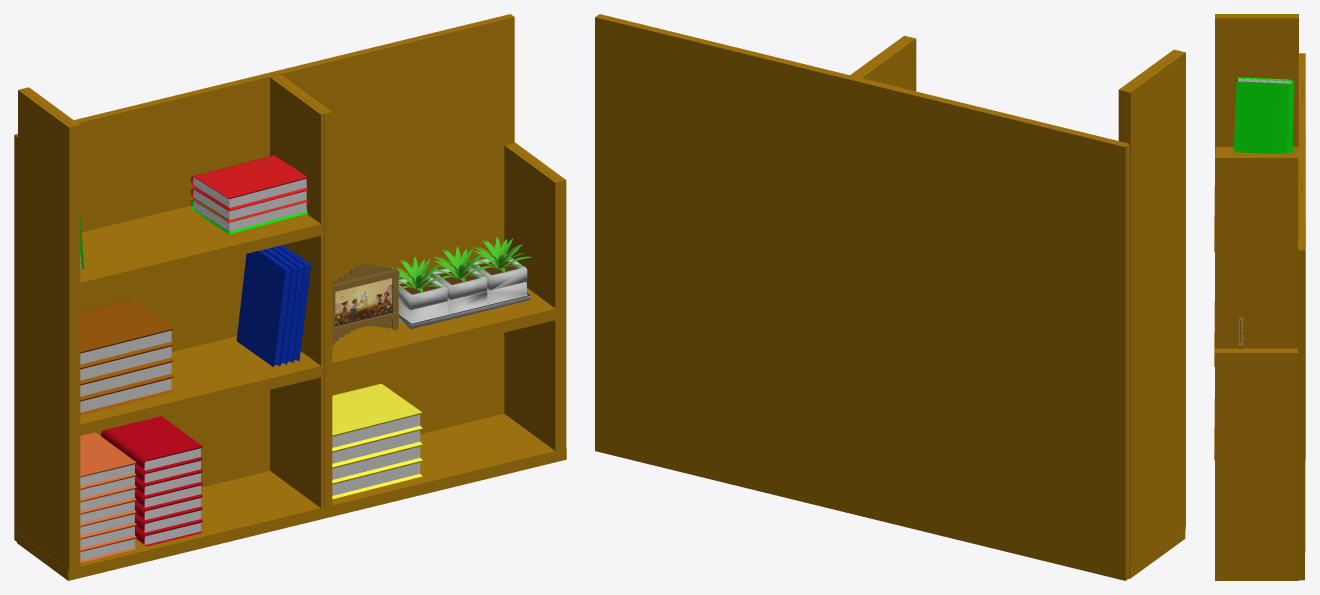
Rendered from Kardus Rak Buku.fbx.
3 views of the same model, side by side, from view 1: azimuth 30°, elevation 25°; view 2: azimuth 150°, elevation 25°; view 3: azimuth 270°, elevation 25° (orthographic). The views are drawn at different scales.
Visible parts, largest first — view 1: Plane.022, Plane.006, Plane.005, Plane.012, Plane.009, Plane.021, Plane.015, Pot, Plane.018, Cube.016, Cube.027, Cube.023 (+43 smaller); view 2: Plane.023, Plane.006, Plane.022, Plane.012; view 3: Plane.007, Plane.010, Plane.002, Cube.206, Plane.023, Plane.022, Plane.004, Plane.005, Plane.021, Plane.003, Plane.001, Plane.006 (+4 smaller).
Part boxes in pixels (box(x1,y1,x2,y2)): Plane.022: box(16, 15, 514, 541); Plane.006: box(18, 89, 72, 570); Plane.005: box(17, 413, 566, 573); Plane.012: box(270, 76, 324, 508); Plane.009: box(504, 144, 558, 450); Plane.021: box(80, 206, 321, 286); Plane.015: box(80, 336, 321, 428); Pot: box(398, 254, 530, 329); Plane.018: box(332, 288, 555, 366); Cube.016: box(236, 249, 291, 367); Cube.027: box(80, 299, 173, 367); Cube.023: box(332, 383, 422, 451); Plane.023: box(595, 15, 1127, 580); Plane.006: box(1126, 51, 1185, 565); Plane.022: box(598, 14, 1129, 578); Plane.012: box(858, 37, 916, 91); Plane.007: box(1215, 351, 1298, 571); Plane.010: box(1215, 156, 1298, 348); Plane.002: box(1215, 17, 1298, 153); Cube.206: box(1233, 77, 1294, 153); Plane.023: box(1301, 53, 1305, 580); Plane.022: box(1298, 53, 1302, 580); Plane.004: box(1215, 574, 1298, 577); Plane.005: box(1215, 571, 1298, 574); Plane.021: box(1214, 147, 1298, 245); Plane.003: box(1215, 577, 1298, 580); Plane.001: box(1215, 15, 1298, 16); Plane.006: box(1215, 14, 1298, 15).
Size of the model in its own units: 2366 by 2061 by 463.
